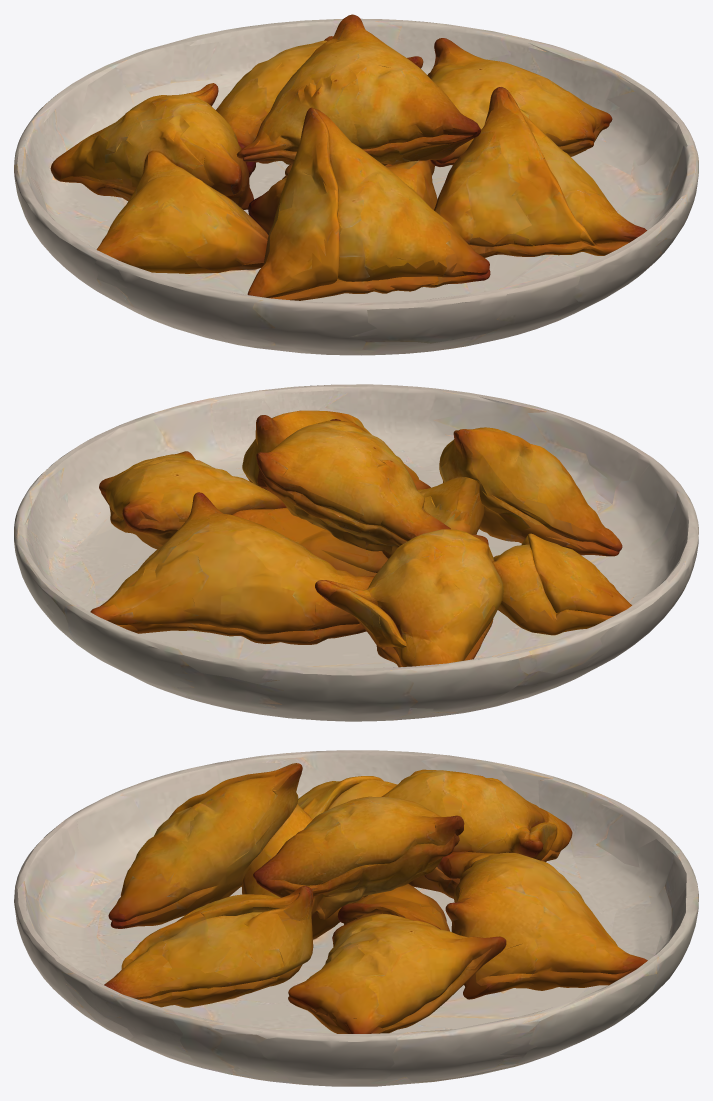
The model's file is samosa.glb.
3 views of the same model, one above another, from view 1: azimuth 30°, elevation 25°; view 2: azimuth 150°, elevation 25°; view 3: azimuth 270°, elevation 25° (orthographic).
Parts seen in each view (by area): view 1: Mesh_0; view 2: Mesh_0; view 3: Mesh_0.
Boxes of the visible parts, box(x1,y1,x2,y2) form: Mesh_0: box(14, 14, 698, 355); Mesh_0: box(14, 384, 698, 721); Mesh_0: box(14, 750, 698, 1086).
Size of the model in its own units: 1.9 by 0.527 by 1.9.
Materials: 1 (1 with a texture image).
